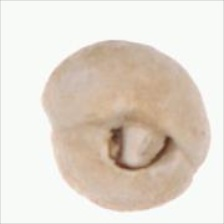L3: (101, 114, 186, 172)
L4: (42, 40, 211, 212)
